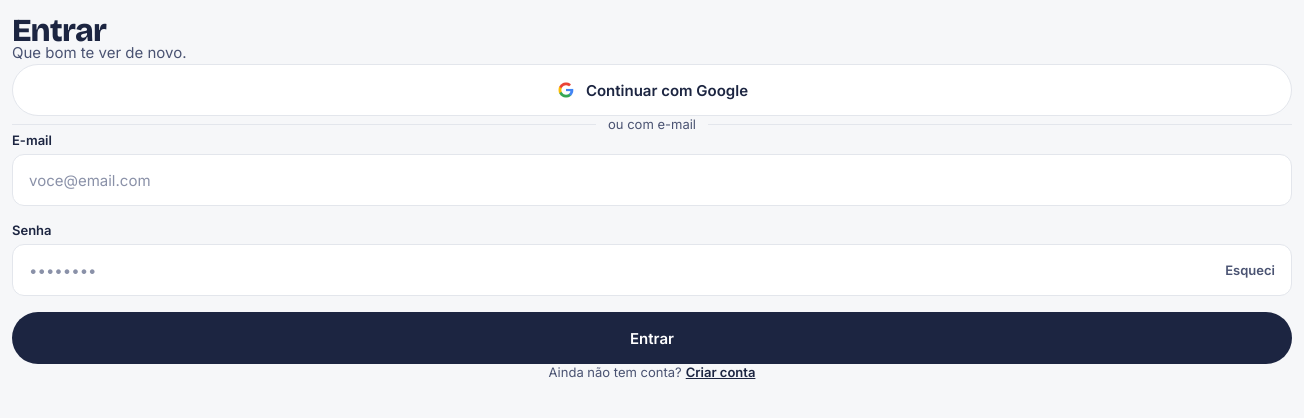
sessão legada autenticada permite nova entrada explícita após logout cercado
In the field labelled "E-mail": (652,180) [29, 155, 1275, 205], type "nova@example.com"
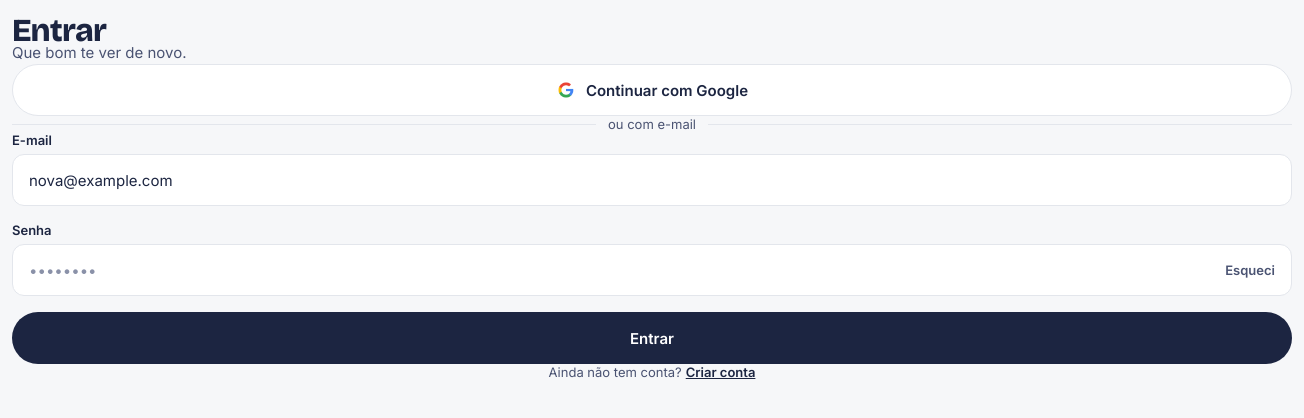
In the password field labelled "Senha": (622,270) [29, 245, 1215, 295], type "senha-teste"
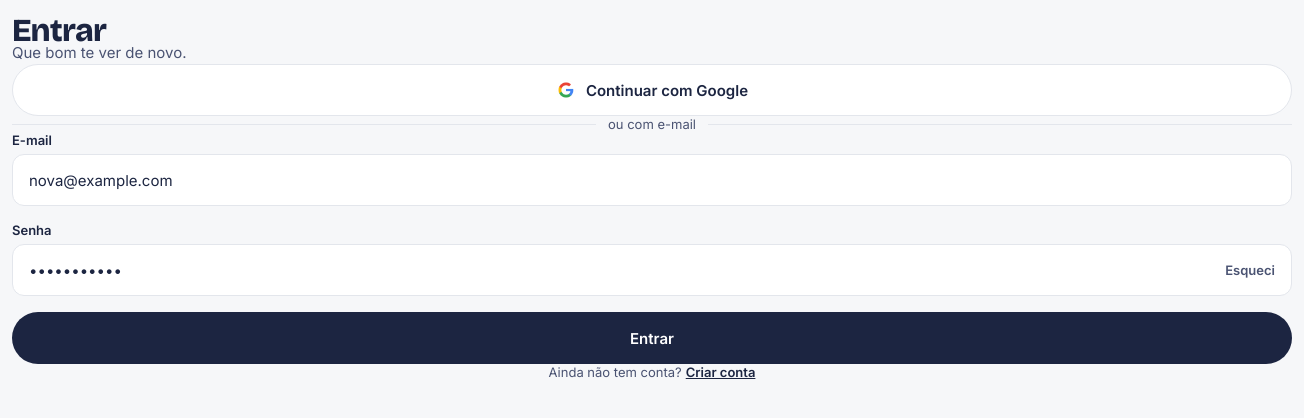
Submit the form "Entrar", box [12, 132, 1292, 364]
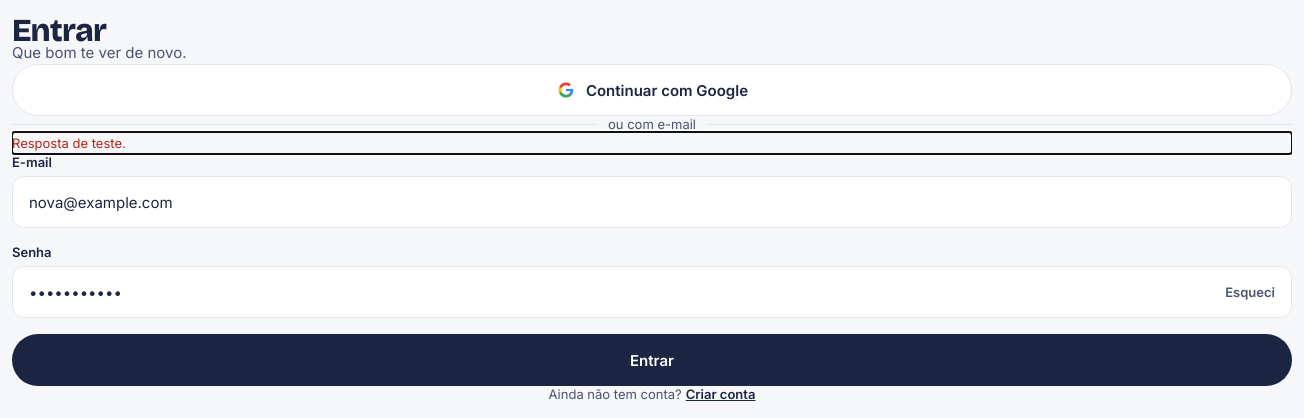
Now the text "Resposta de teste." is shown, box [12, 135, 126, 151]
